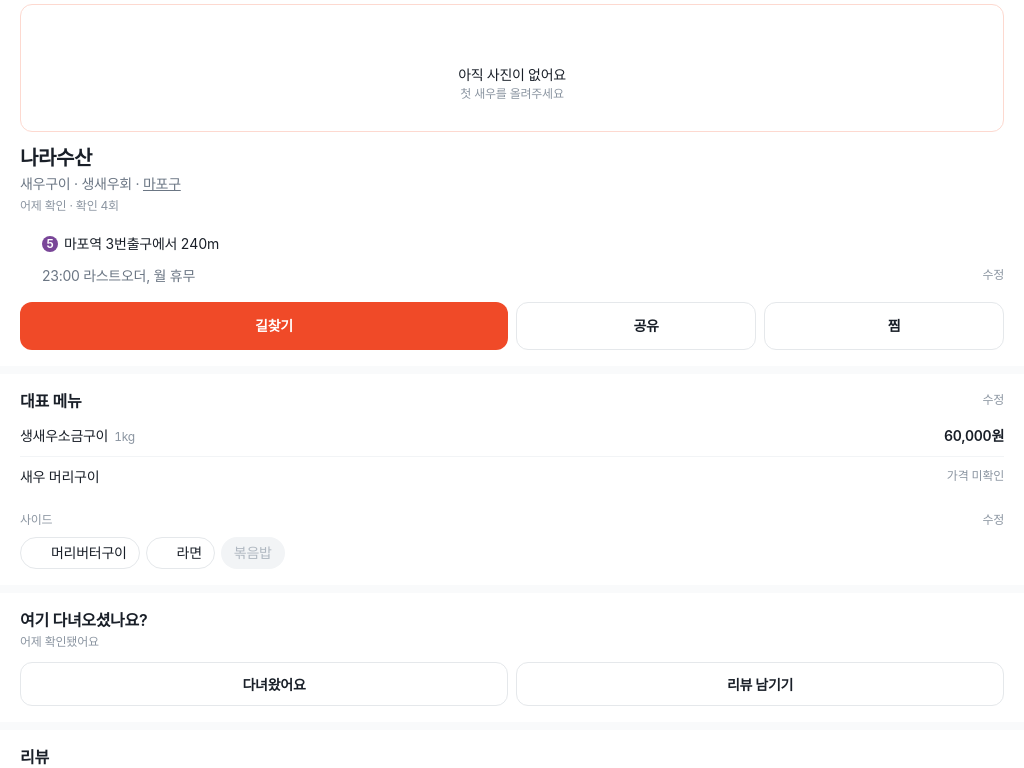
Scenario: 찜·복사·공유 › 값이 있는 영업시간은 옅은 [수정]이 입구
Expected: the button "영업시간을 알려주세요" is not shown
Click the button with aria-label "영업시간 수정".
click(993, 276)  # box [982,267,1004,284]
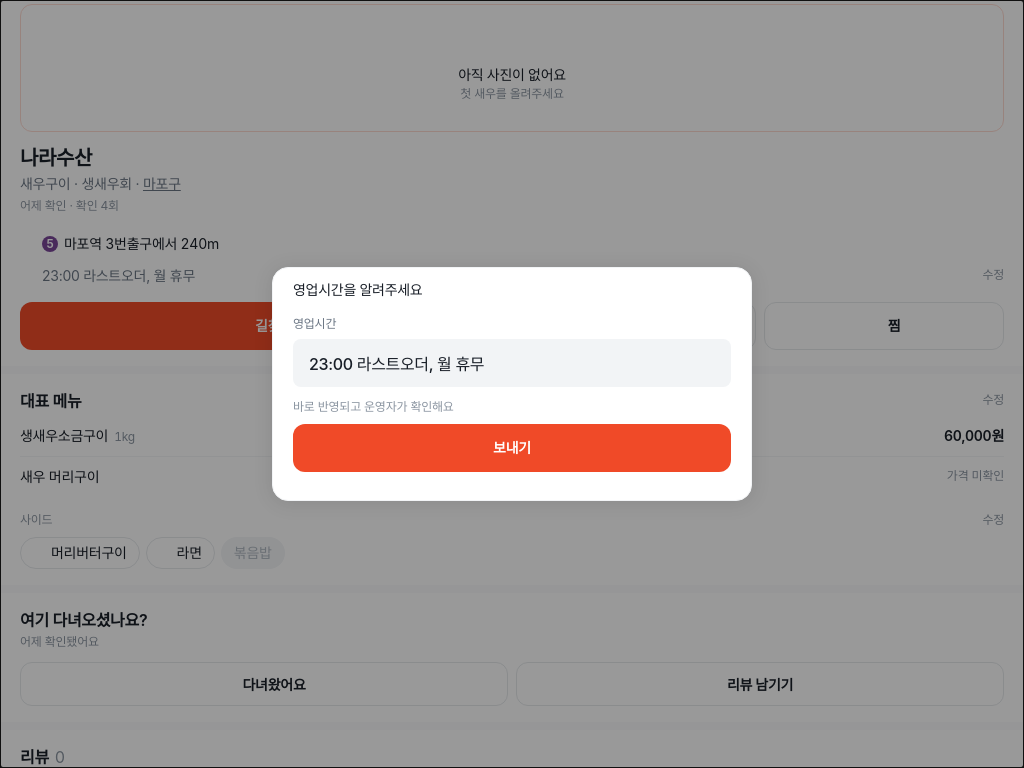
Result: the dialog "영업시간을 알려주세요 영업시간 바로 반영되고 운영자가 확인해요 보내기" is shown
